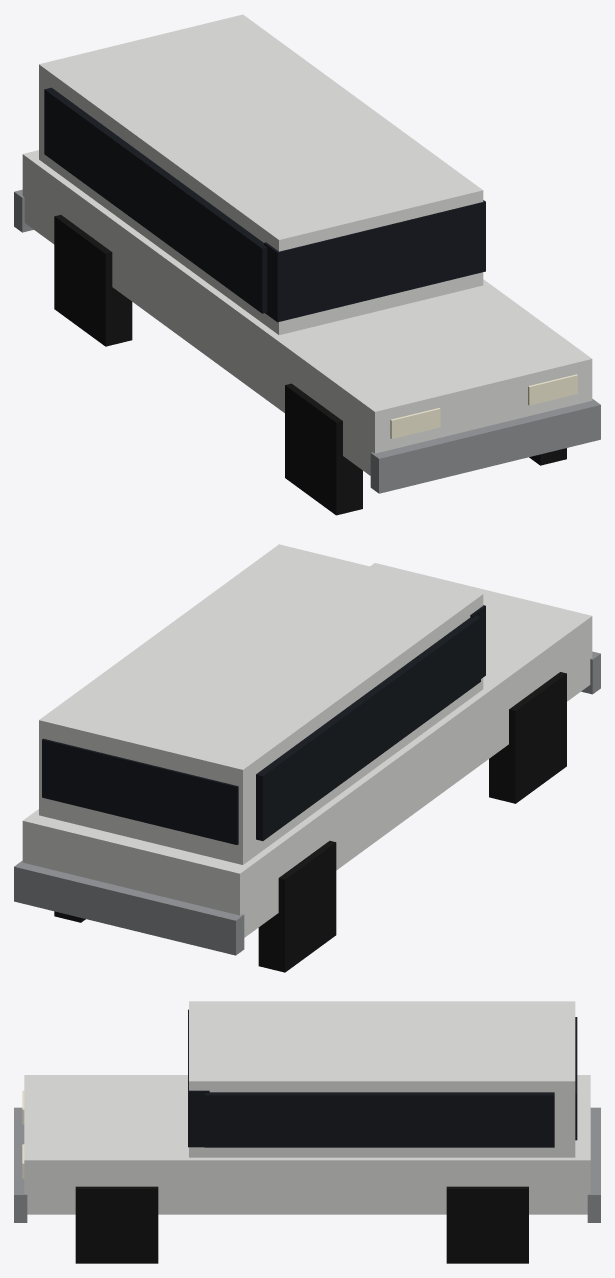
The model's file is suv_white.dae.
The picture shows the model from 3 angles, top to bottom: view 1: azimuth 30°, elevation 25°; view 2: azimuth 150°, elevation 25°; view 3: azimuth 270°, elevation 25°; orthographic projection. The views are drawn at different scales.
Visible parts, largest first — view 1: marker; view 2: marker; view 3: marker.
Part boxes in pixels (bbox=[...]): marker: bbox=[14, 14, 600, 515]; marker: bbox=[14, 544, 600, 972]; marker: bbox=[14, 1001, 600, 1263].
Size of the model in its own units: 2.08 by 5.7 by 1.9.
